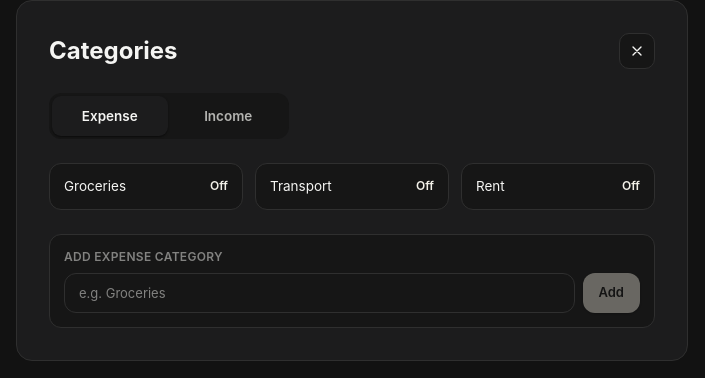
SettingsCategoriesPage › lists expense categories by default and switches to income categories on tab change
This screenshot has width=705, height=378.
Check: the text "Groceries" is shown, box [64,176,126,197]
Check: the text "Transport" is shown, box [270,176,332,197]
Click the button "Income".
click(228, 116)  # box [170,96,286,136]
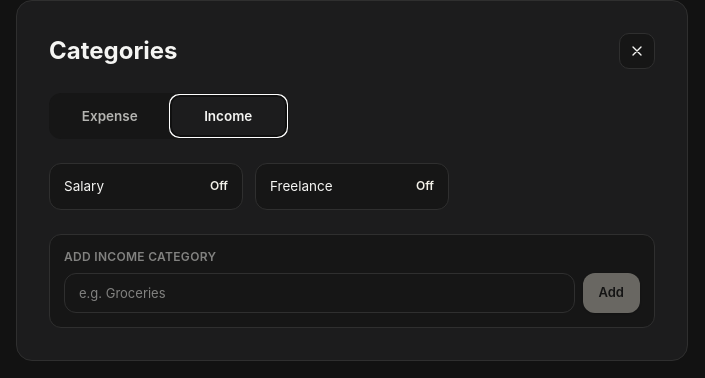
Check: the text "Salary" is shown, box [64,176,104,197]
Check: the text "Freelance" is shown, box [270,176,333,197]
